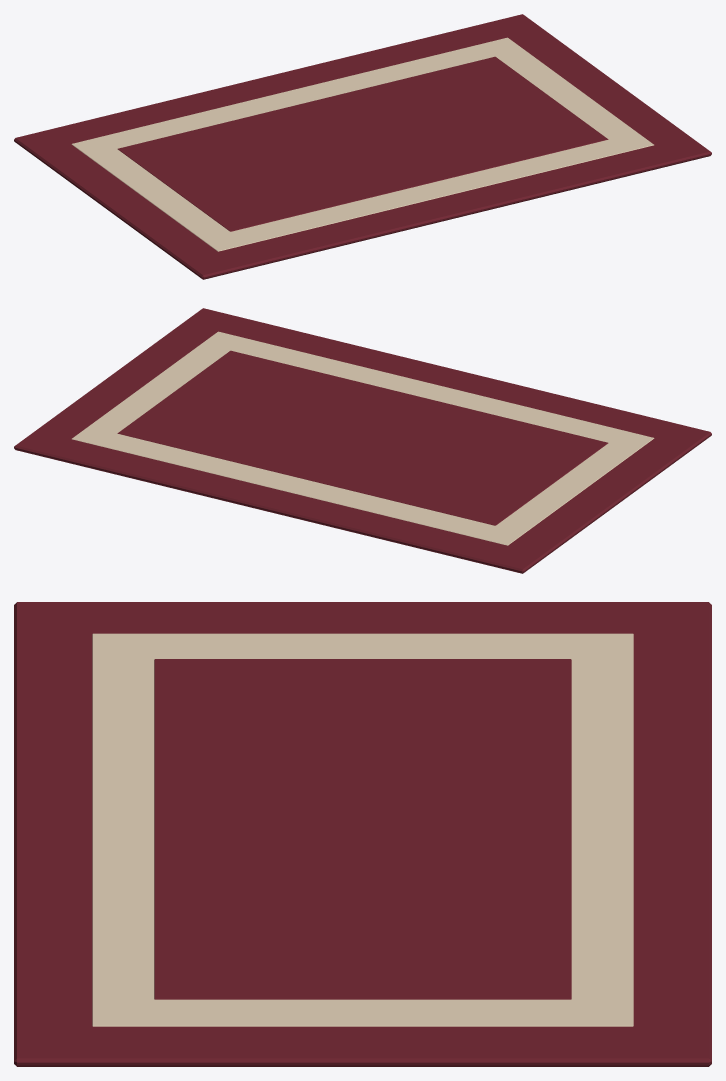
The model's file is i_rug_5.glb.
3 views of the same model, one above another, from view 1: azimuth 30°, elevation 25°; view 2: azimuth 150°, elevation 25°; view 3: azimuth 270°, elevation 25° (orthographic). The views are drawn at different scales.
Visible parts, largest first — view 1: o.002, o, o.001; view 2: o.002, o, o.001; view 3: o.002, o, o.001.
Boxes of the visible parts, x1=… form: o.002: x1=117, y1=56, x2=608, y2=231; o: x1=14, y1=14, x2=711, y2=279; o.001: x1=71, y1=37, x2=653, y2=251; o.002: x1=117, y1=350, x2=608, y2=525; o: x1=14, y1=308, x2=711, y2=573; o.001: x1=72, y1=331, x2=654, y2=545; o.002: x1=154, y1=659, x2=571, y2=999; o: x1=14, y1=602, x2=711, y2=1066; o.001: x1=92, y1=633, x2=633, y2=1026.
Bounding box in the file's own units: 1.4 × 0.014 × 0.9.
